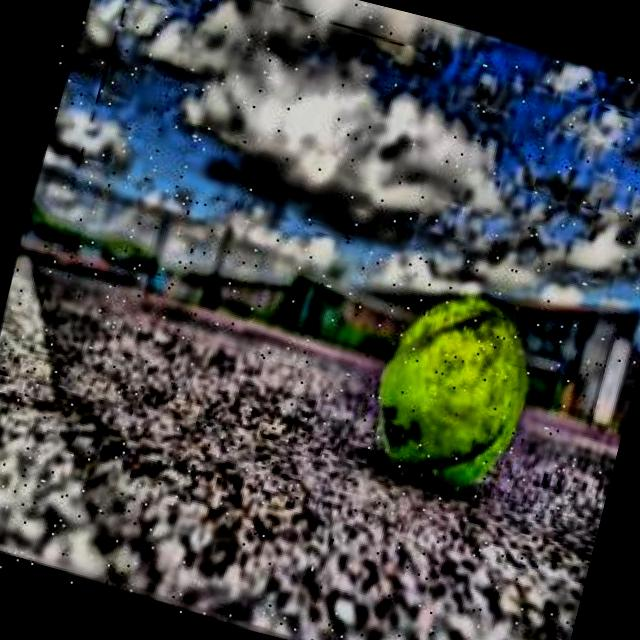tennis-ball: (346, 269, 554, 511)
